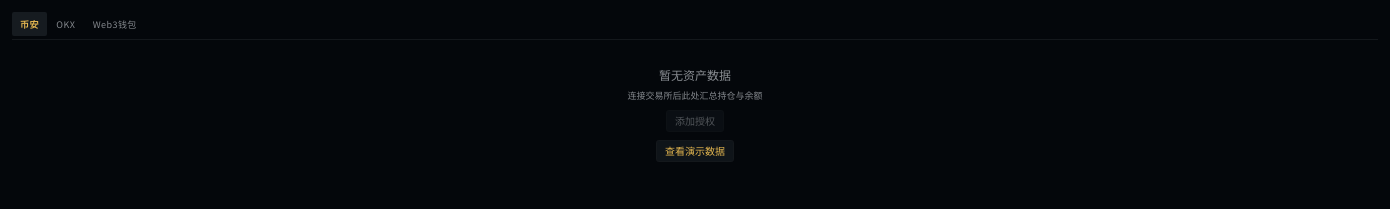
AssetOverview(资产聚合壳) › 点击查看演示 → 演示徽标 + binance 资产表
What coordinates should you click on to do the following:
click the button "查看演示数据"
I would click on:
 (695, 151)
Its box is 656,140 -> 734,162.
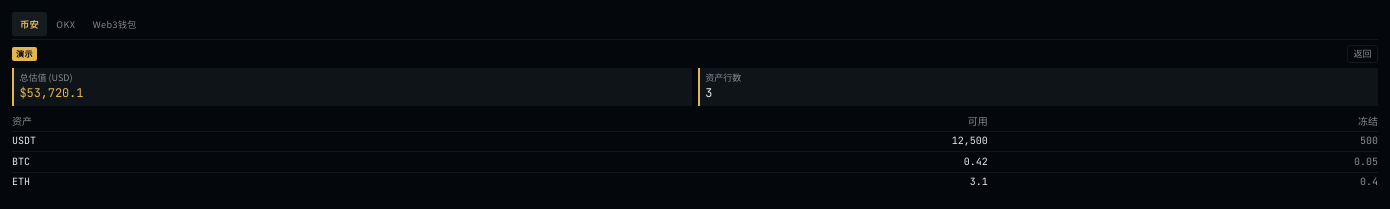
Expected: the text "总估值 (USD)" is shown, 20,71 -> 72,84
Expected: the text "USDT" is shown, 12,131 -> 402,152
Expected: the text "BTC" is shown, 12,152 -> 402,172
